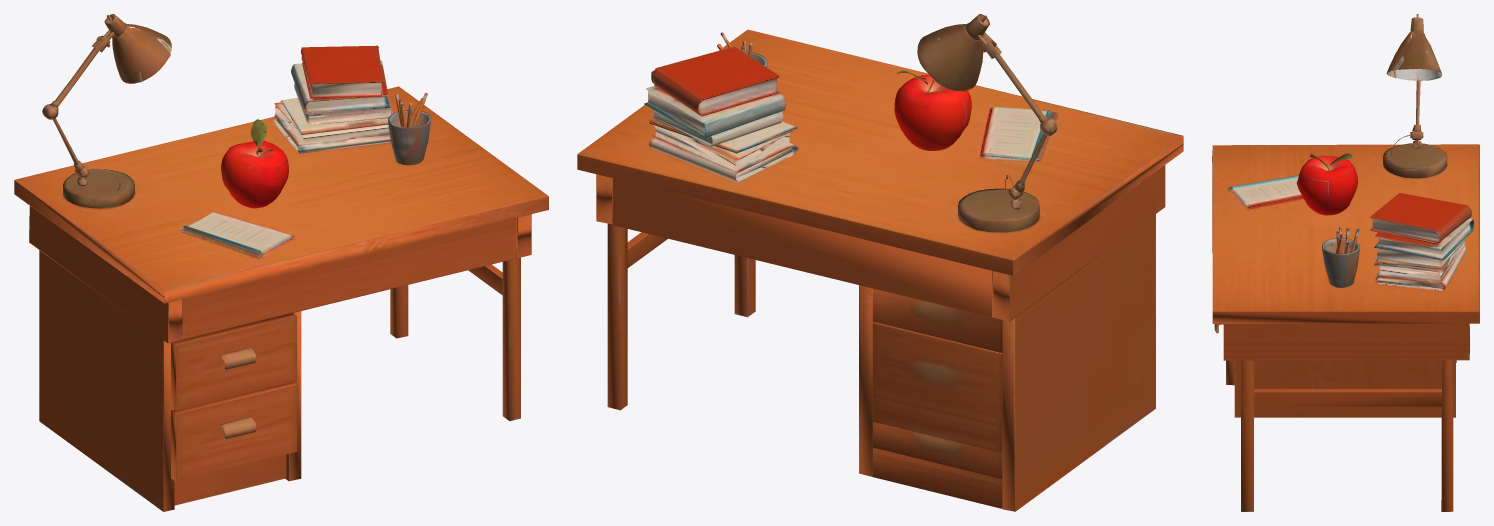
File: teacher_desk.glb
3 renders of one model, left to right at view 1: azimuth 30°, elevation 25°; view 2: azimuth 150°, elevation 25°; view 3: azimuth 270°, elevation 25°, orthographic. The views are drawn at different scales.
Bounding box in the file's own units: 0.9424 × 0.9526 × 0.6333.
1 material, 1 textured.
